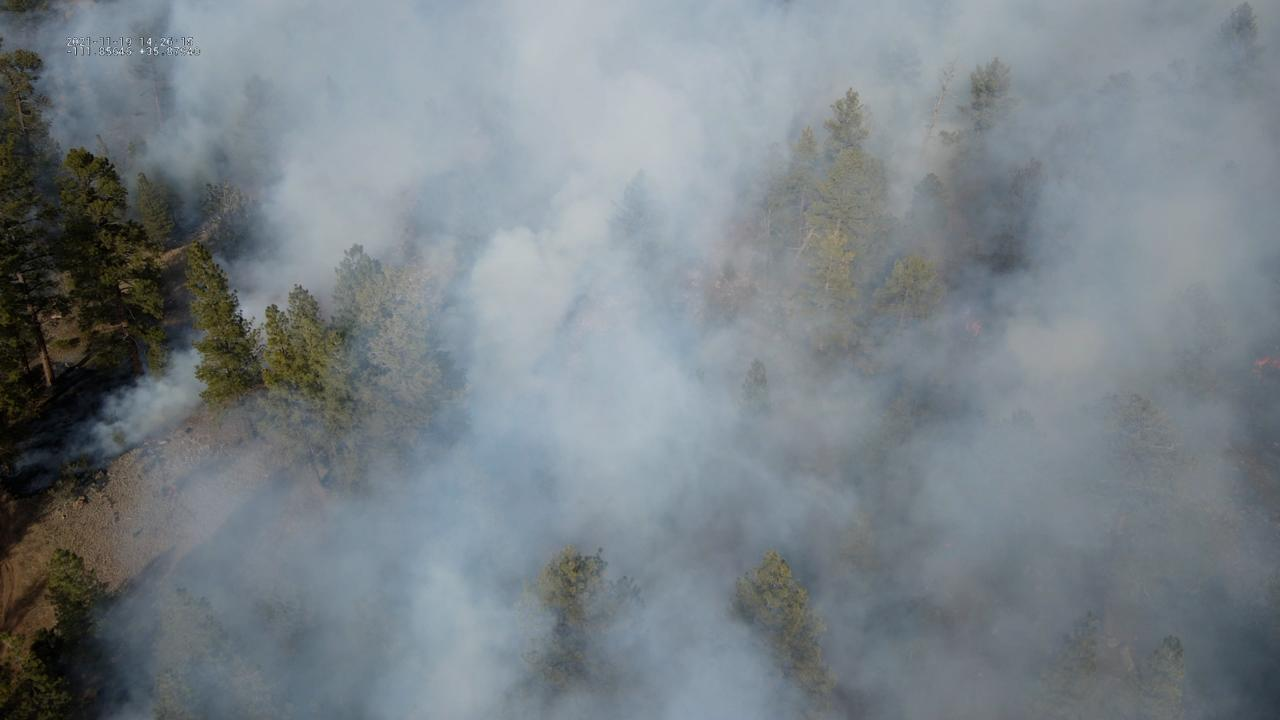fire: (1247, 354, 1280, 380), (961, 319, 982, 337)
smoke: (0, 0, 1280, 720)
